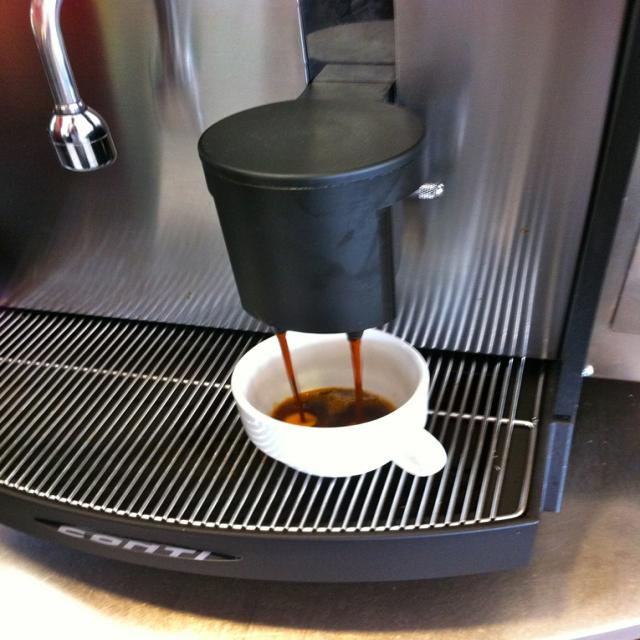Coffee: (262, 328, 394, 426)
